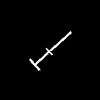double_crochet: (30, 32, 70, 69)
